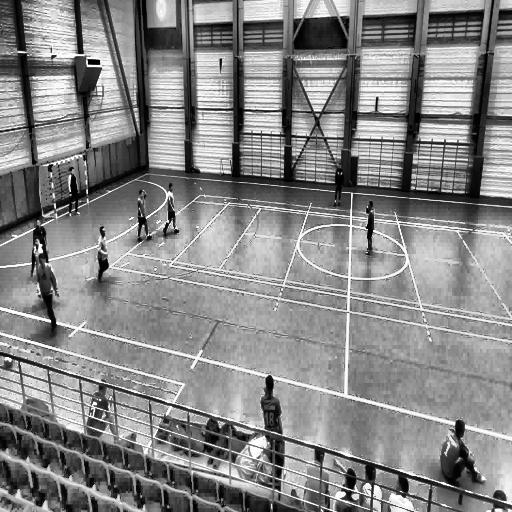ball: (4, 354, 14, 371)
player: (36, 251, 59, 335), (162, 183, 180, 236), (31, 236, 49, 285), (31, 217, 49, 259), (137, 189, 151, 242), (97, 226, 109, 284), (68, 168, 80, 216), (365, 199, 375, 253), (333, 161, 344, 207)
